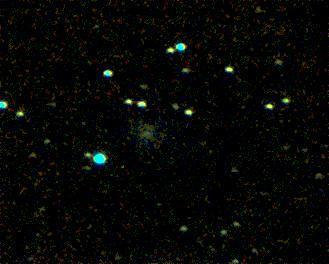star: (242, 0, 272, 27)
